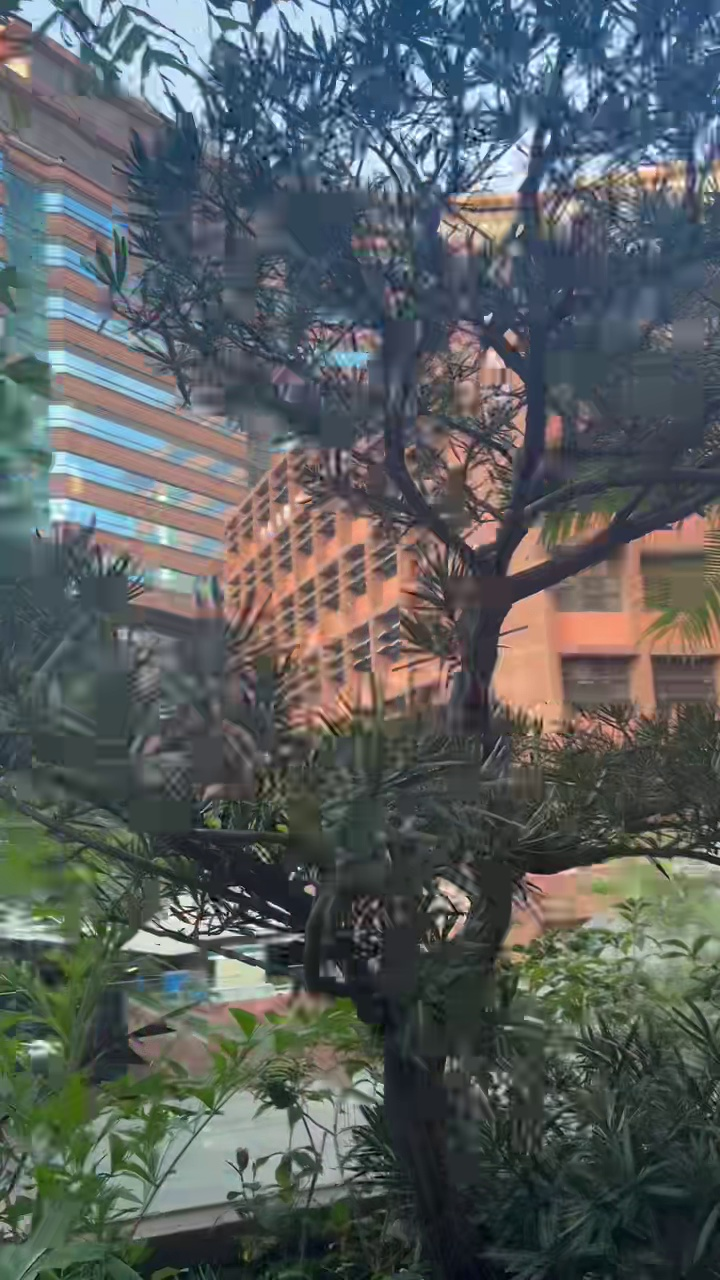Podocarpus macrophyllus: (32, 0, 719, 1279)
